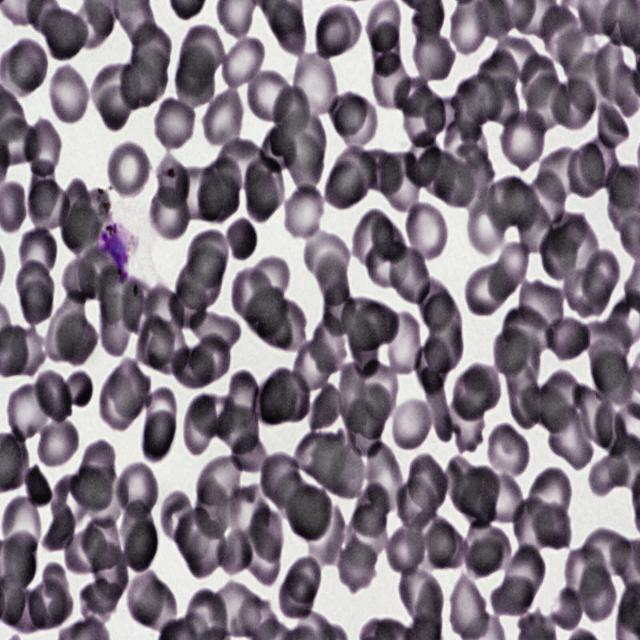red blood cell: (122, 23, 170, 110), (462, 257, 518, 321), (422, 290, 464, 373), (524, 57, 566, 138), (118, 500, 162, 576), (195, 155, 242, 226), (482, 174, 540, 231), (174, 245, 226, 308), (291, 51, 337, 122), (294, 430, 350, 488), (450, 362, 502, 424), (344, 294, 401, 350), (540, 211, 588, 277), (394, 564, 442, 630), (399, 80, 445, 148), (534, 148, 586, 208), (406, 512, 457, 573), (499, 106, 546, 172), (403, 200, 449, 266), (201, 86, 246, 153), (455, 145, 496, 218), (14, 258, 56, 329), (538, 368, 582, 435), (546, 407, 592, 471), (443, 117, 491, 178), (308, 500, 348, 573), (6, 379, 52, 442), (460, 519, 509, 578), (550, 74, 598, 134), (279, 109, 326, 170), (464, 192, 508, 257), (330, 142, 379, 200), (46, 290, 86, 361), (370, 49, 415, 112), (314, 3, 362, 62), (174, 164, 222, 223), (485, 421, 529, 485), (106, 140, 152, 201), (368, 441, 405, 516), (386, 243, 431, 304), (212, 581, 260, 638), (180, 395, 222, 460), (430, 149, 476, 208), (448, 577, 491, 640), (181, 23, 226, 83), (343, 506, 388, 566), (48, 63, 90, 127), (116, 460, 158, 524), (288, 484, 336, 540), (556, 30, 604, 86), (184, 518, 228, 579), (540, 5, 584, 66), (503, 305, 555, 356), (195, 453, 245, 506), (21, 119, 63, 182), (516, 278, 565, 332), (580, 528, 634, 577), (248, 64, 292, 124), (482, 469, 526, 529), (521, 385, 576, 433), (412, 23, 454, 85), (504, 547, 546, 609), (383, 312, 421, 380), (304, 230, 350, 286), (258, 451, 303, 508), (386, 519, 434, 572), (584, 314, 632, 367), (570, 52, 611, 114), (574, 384, 613, 449), (188, 304, 243, 350), (346, 384, 392, 439), (245, 150, 285, 213), (407, 452, 451, 509), (85, 470, 129, 527), (257, 366, 298, 427), (33, 419, 82, 470), (356, 144, 404, 196), (528, 466, 574, 520), (260, 300, 306, 354), (309, 313, 346, 380), (380, 147, 418, 212), (94, 63, 138, 119), (454, 467, 498, 523), (270, 85, 311, 145), (564, 267, 612, 318), (42, 8, 90, 59), (214, 138, 266, 185), (98, 371, 138, 432), (444, 454, 484, 515), (283, 184, 325, 242), (188, 228, 230, 286), (176, 45, 214, 109), (60, 178, 92, 254), (488, 38, 542, 83), (324, 444, 368, 499), (153, 96, 196, 152), (391, 396, 434, 452), (16, 226, 59, 282), (240, 523, 280, 583), (426, 518, 468, 575), (580, 130, 621, 188), (564, 546, 607, 601), (70, 1, 117, 51), (224, 487, 270, 538), (353, 209, 392, 269), (98, 294, 134, 359), (60, 248, 100, 306), (580, 564, 618, 625), (25, 578, 67, 633), (32, 370, 74, 425), (544, 313, 592, 361), (110, 359, 150, 416), (515, 197, 555, 254), (336, 96, 378, 150), (78, 246, 117, 304), (170, 344, 217, 392), (506, 364, 540, 430), (490, 242, 530, 298), (81, 515, 124, 567), (346, 395, 382, 457), (134, 314, 173, 371), (10, 38, 51, 92), (406, 127, 441, 190), (138, 578, 176, 636), (338, 362, 369, 433), (366, 238, 410, 288), (514, 496, 554, 551), (476, 52, 520, 102), (452, 0, 492, 55), (244, 286, 286, 338), (56, 313, 98, 365), (568, 142, 605, 201), (271, 0, 308, 59), (424, 368, 453, 443), (221, 399, 259, 456), (232, 267, 272, 321), (126, 568, 163, 626), (248, 255, 290, 306), (463, 73, 505, 124), (94, 541, 129, 602), (296, 336, 334, 392), (346, 314, 379, 378), (362, 359, 399, 416), (306, 380, 345, 434), (413, 338, 452, 392), (220, 38, 262, 88), (452, 79, 487, 139), (151, 187, 189, 242), (175, 506, 213, 561), (482, 77, 522, 129), (196, 479, 230, 540), (224, 368, 258, 429), (582, 248, 619, 304), (188, 335, 232, 382), (337, 539, 376, 592), (351, 484, 390, 537), (28, 184, 70, 233), (146, 286, 184, 340), (4, 497, 41, 552), (488, 574, 534, 618), (273, 369, 309, 425), (71, 188, 111, 238), (221, 215, 260, 266), (396, 479, 435, 530), (218, 520, 254, 575), (419, 276, 455, 331), (63, 529, 107, 574), (41, 562, 74, 622), (548, 582, 586, 633), (492, 327, 530, 378), (527, 171, 565, 222), (70, 464, 112, 510), (190, 396, 236, 438), (159, 489, 194, 544), (252, 500, 284, 560), (594, 40, 626, 100), (134, 46, 167, 104), (6, 528, 39, 586), (50, 476, 88, 526), (119, 55, 154, 109), (533, 503, 573, 550), (6, 589, 46, 636), (288, 133, 322, 188), (27, 158, 57, 220), (285, 551, 322, 601), (365, 1, 402, 51), (591, 347, 631, 393), (450, 398, 484, 452), (80, 578, 118, 626), (43, 504, 77, 557), (278, 573, 314, 623), (170, 279, 206, 329), (10, 326, 46, 376), (323, 163, 362, 209), (316, 254, 351, 305), (587, 455, 626, 500), (98, 267, 127, 327), (156, 156, 190, 207), (324, 282, 356, 336), (328, 89, 367, 133), (231, 431, 272, 472), (372, 22, 402, 78), (598, 100, 629, 154), (596, 402, 627, 455), (371, 216, 406, 262), (144, 410, 176, 460), (98, 84, 132, 131), (143, 388, 179, 432), (79, 440, 115, 484), (258, 129, 297, 169), (247, 172, 277, 223), (423, 96, 463, 133), (120, 282, 144, 338), (60, 372, 94, 408), (26, 465, 53, 508)
trophozoite: (98, 220, 143, 286)
